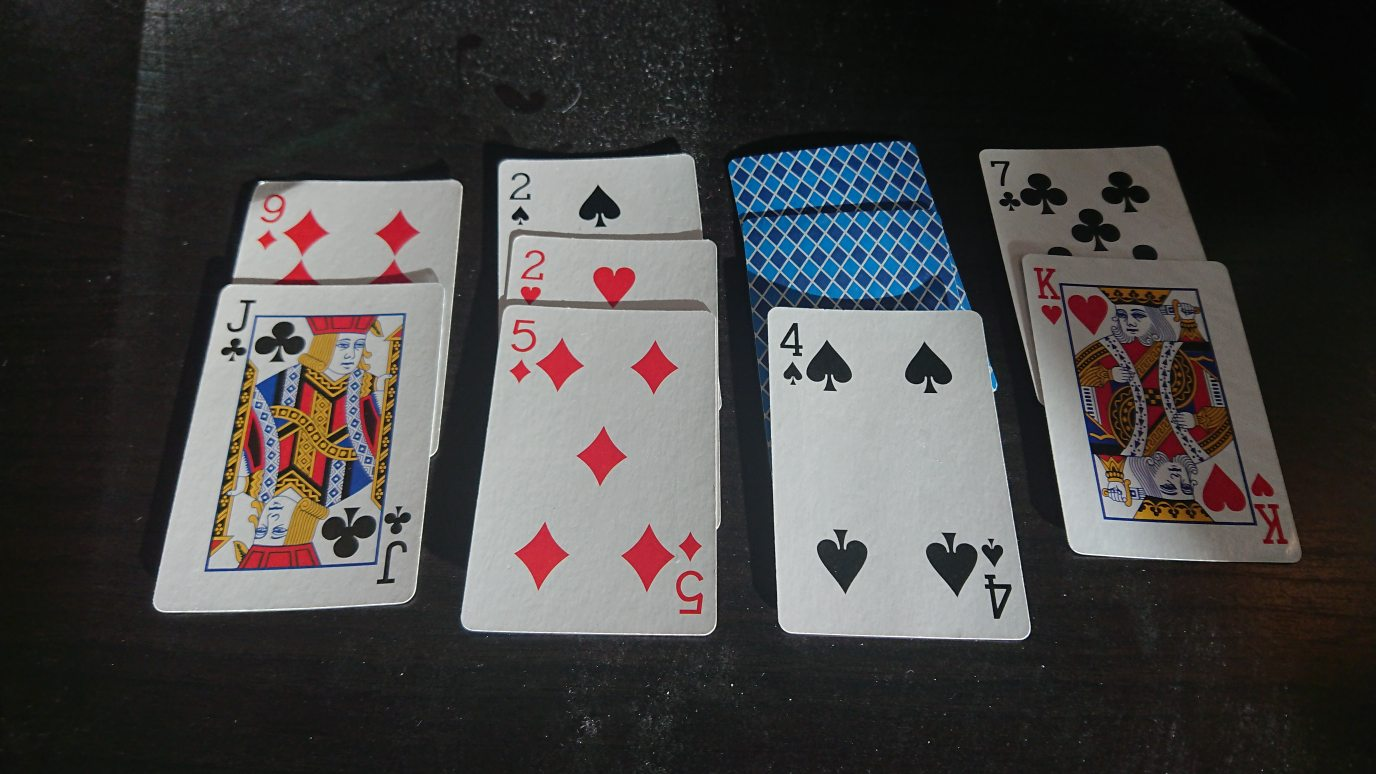2H: (515, 243, 548, 305)
2S: (505, 169, 538, 228)
4S: (777, 319, 808, 388)
5D: (505, 316, 540, 385)
7C: (987, 158, 1023, 214)
9D: (255, 190, 287, 252)
BACK: (742, 211, 964, 309), (728, 138, 936, 209)
JC: (217, 296, 257, 365)
KH: (1029, 265, 1066, 327)
